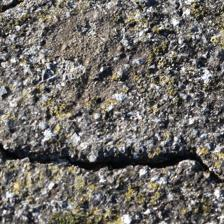Crack: (2, 67, 216, 121)
